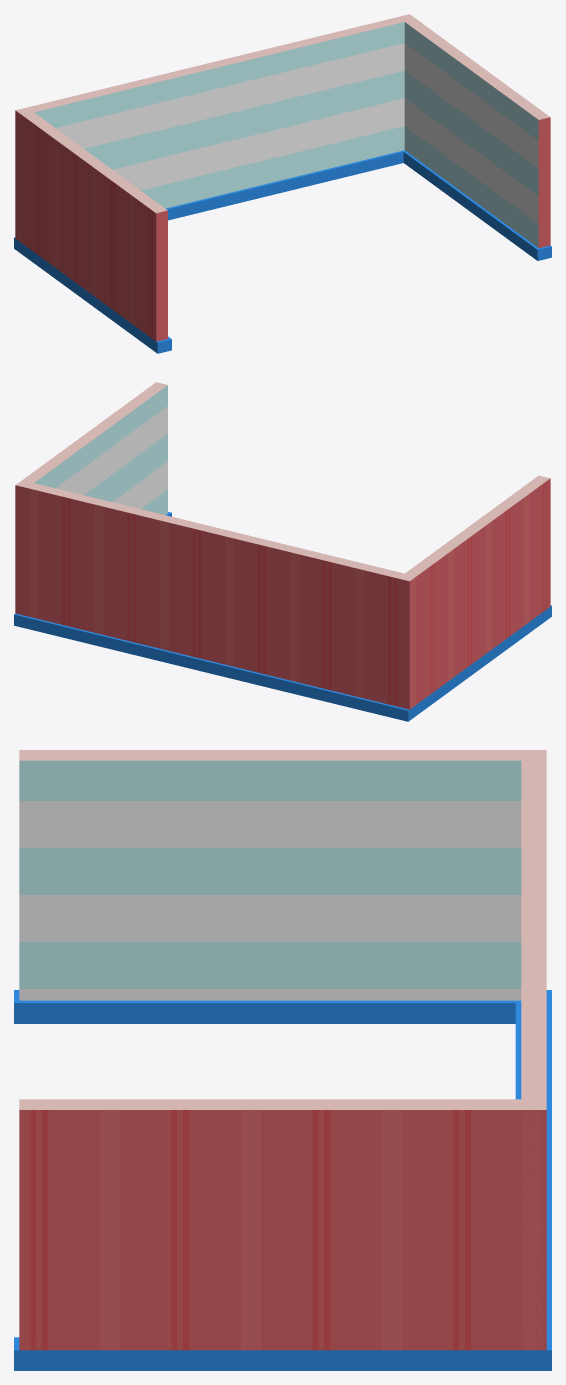
Rendered from Room02-3_Wall_geo.fbx.
3 renders of one model, top to bottom at view 1: azimuth 30°, elevation 25°; view 2: azimuth 150°, elevation 25°; view 3: azimuth 270°, elevation 25°, orthographic. The views are drawn at different scales.
Visible parts, largest first — view 1: Room02-3_Wall_geo; view 2: Room02-3_Wall_geo; view 3: Room02-3_Wall_geo.
Boxes of the visible parts, x1=… form: Room02-3_Wall_geo: x1=14, y1=14, x2=551, y2=353; Room02-3_Wall_geo: x1=14, y1=382, x2=551, y2=721; Room02-3_Wall_geo: x1=14, y1=750, x2=551, y2=1370.
Bounding box in the file's own units: 6.03 × 3.81 × 2.04.
